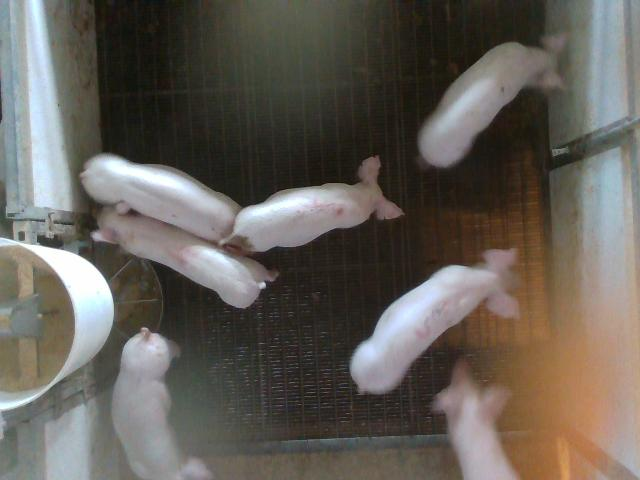pig-3: (350, 249, 519, 393)
pig-4: (92, 206, 275, 308)
pig-5: (221, 157, 403, 252)
